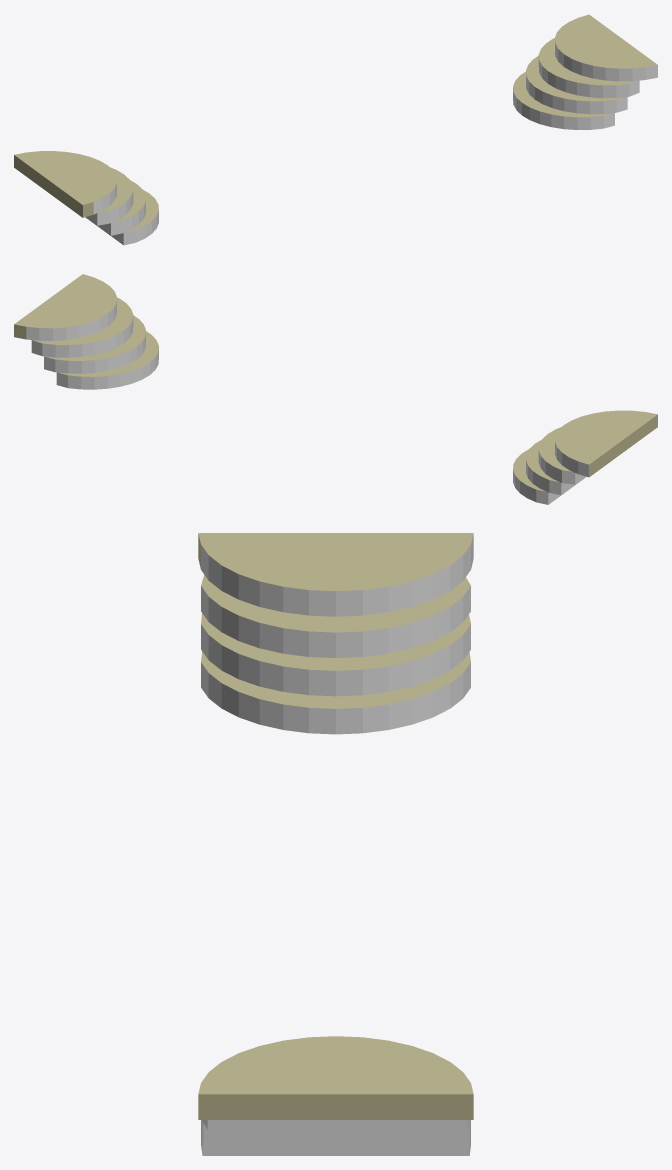
The model's file is Torres 3 soporte escaleras.fbx.
3 views of the same model, one above another, from view 1: azimuth 30°, elevation 25°; view 2: azimuth 150°, elevation 25°; view 3: azimuth 270°, elevation 25° (orthographic). The views are drawn at different scales.
Visible parts, largest first — view 1: Cylinder.007, Cylinder.009; view 2: Cylinder.007, Cylinder.009; view 3: Cylinder.009, Cylinder.007.
Part boxes in pixels (x1=…): Cylinder.007: x1=513, y1=14, x2=657, y2=129; Cylinder.009: x1=14, y1=151, x2=158, y2=245; Cylinder.007: x1=14, y1=274, x2=158, y2=389; Cylinder.009: x1=513, y1=410, x2=657, y2=504; Cylinder.009: x1=198, y1=533, x2=473, y2=734; Cylinder.007: x1=198, y1=1036, x2=473, y2=1155.
Size of the model in its own units: 728 by 61.93 by 151.
